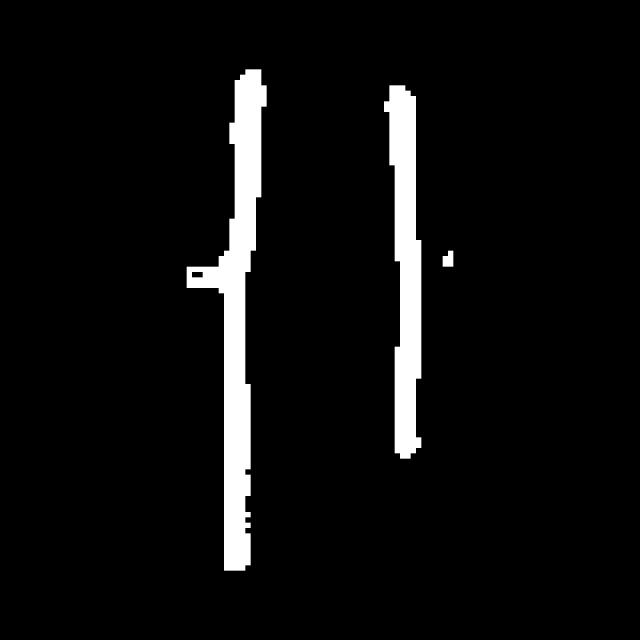capacitor: (210, 69, 436, 609)
